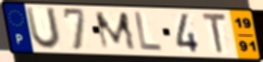4: (175, 12, 201, 55)
7: (61, 7, 88, 53)
L: (133, 10, 164, 53)
M: (93, 11, 139, 51)
T: (201, 12, 229, 56)
U: (24, 6, 63, 52)
